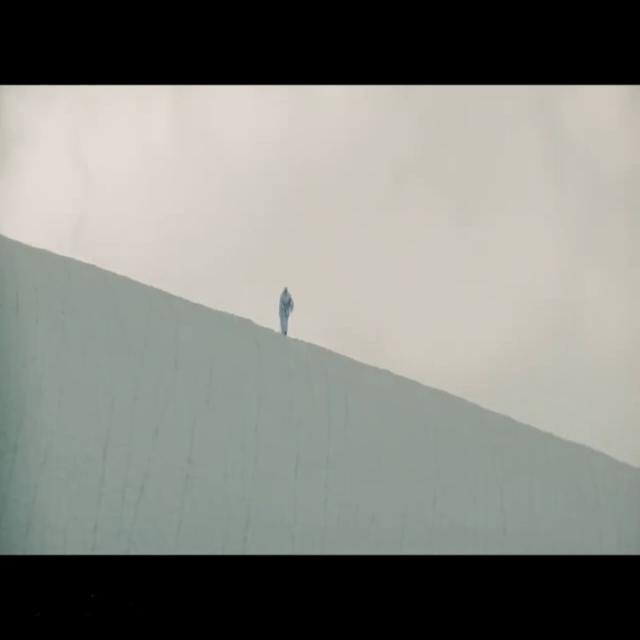Human: (277, 287, 294, 335)
